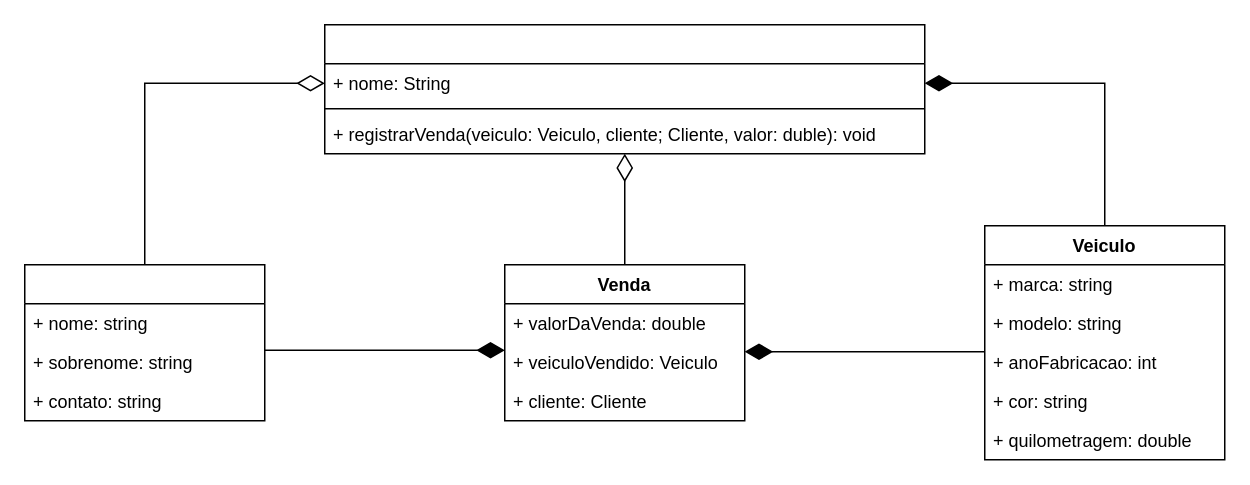
Some shapes in this 1250 by 485 pixel diagram are drawn without their labels. Each missing label, with the box of its shape:
Cliente: (23, 263, 265, 421)
Concessionaria: (323, 23, 925, 154)
